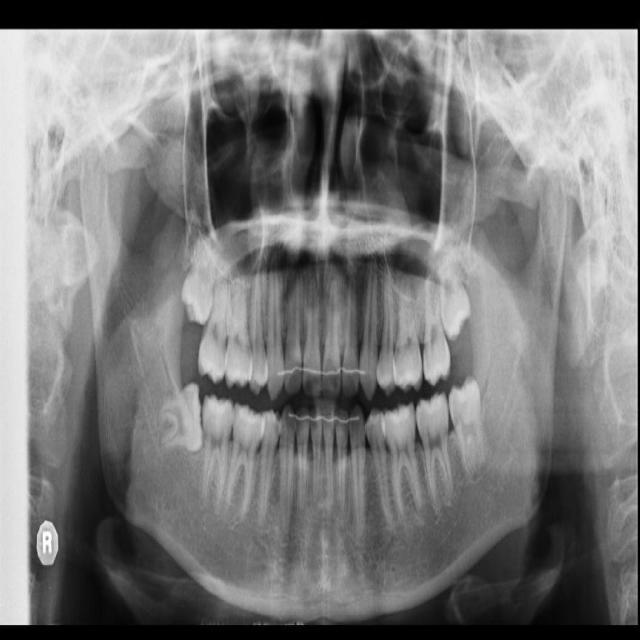3M ESPE Implant: (178, 234, 218, 323)
BioHorizons Implant: (422, 265, 451, 385)
BioLife Implant: (433, 245, 474, 342)
Biomet 3i Implant: (447, 376, 488, 480)
Blue Sky Bio Implant: (414, 392, 454, 510)
Caries: (196, 269, 236, 379)
Implant: (194, 394, 236, 513)
Keystone Dental Implant: (159, 381, 204, 451)
